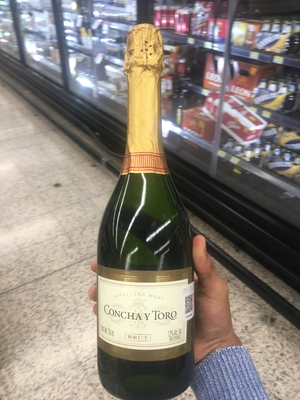brut: (82, 28, 208, 398)
